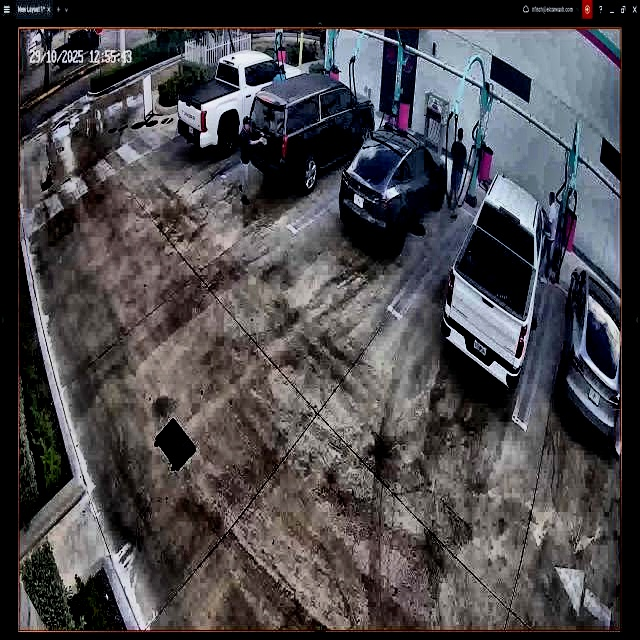Car: (442, 175, 553, 390), (247, 75, 373, 192), (178, 49, 307, 158), (340, 130, 446, 252)
